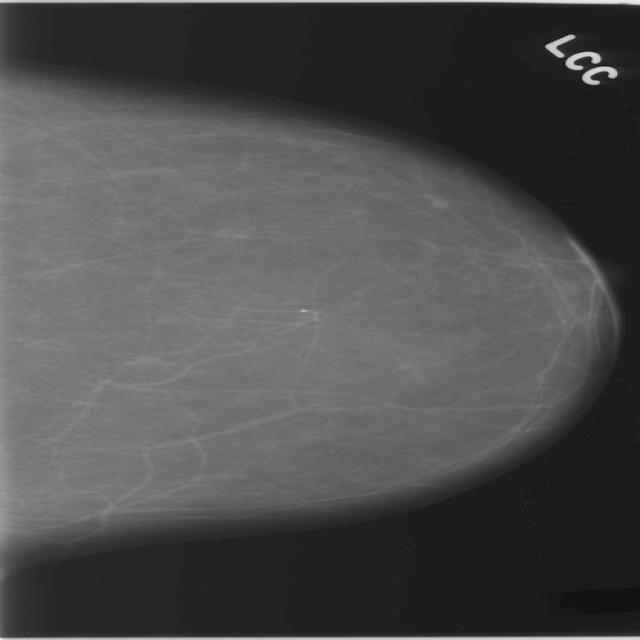tumour: (425, 195, 447, 207)
